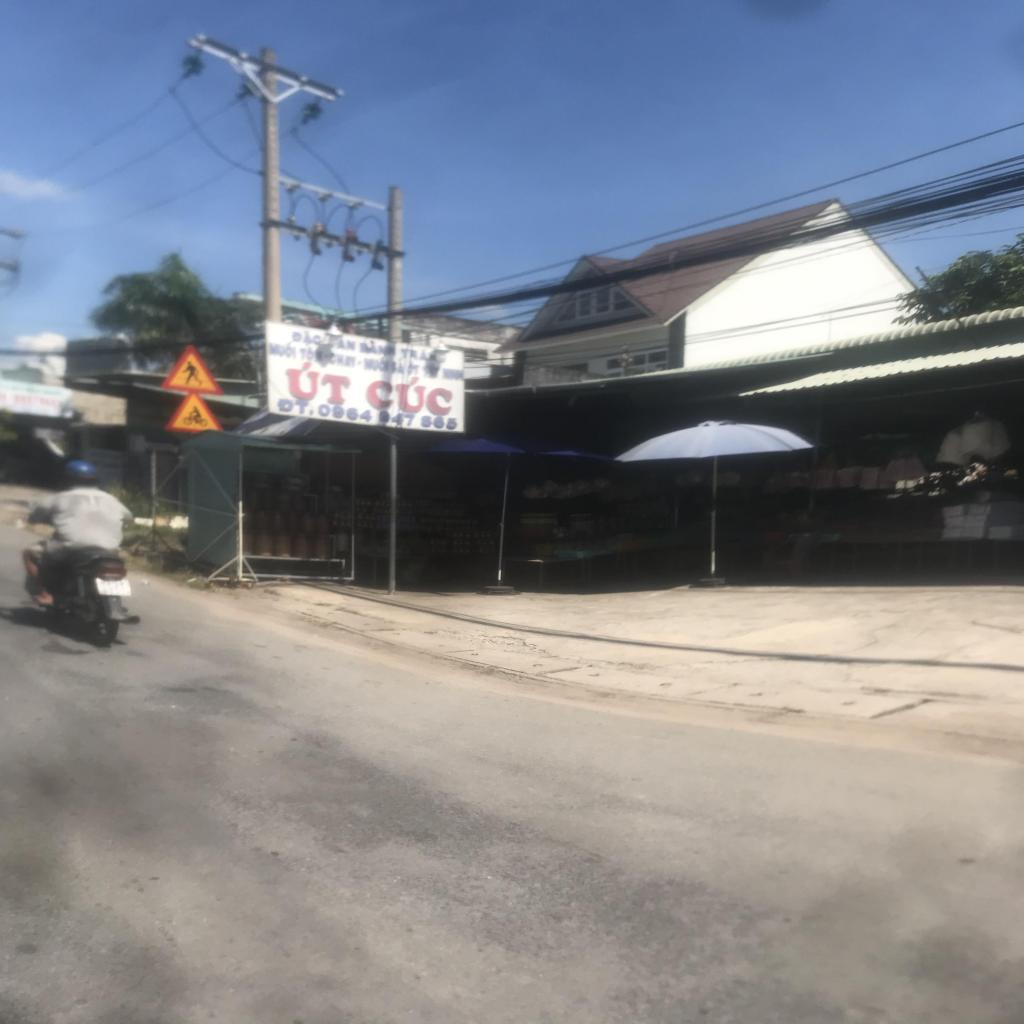chu_y_nguoi_di_bo_cat_ngang: (158, 341, 227, 396)
chu_y_nguoi_di_xe_dap_cat_ngang: (164, 388, 224, 435)
